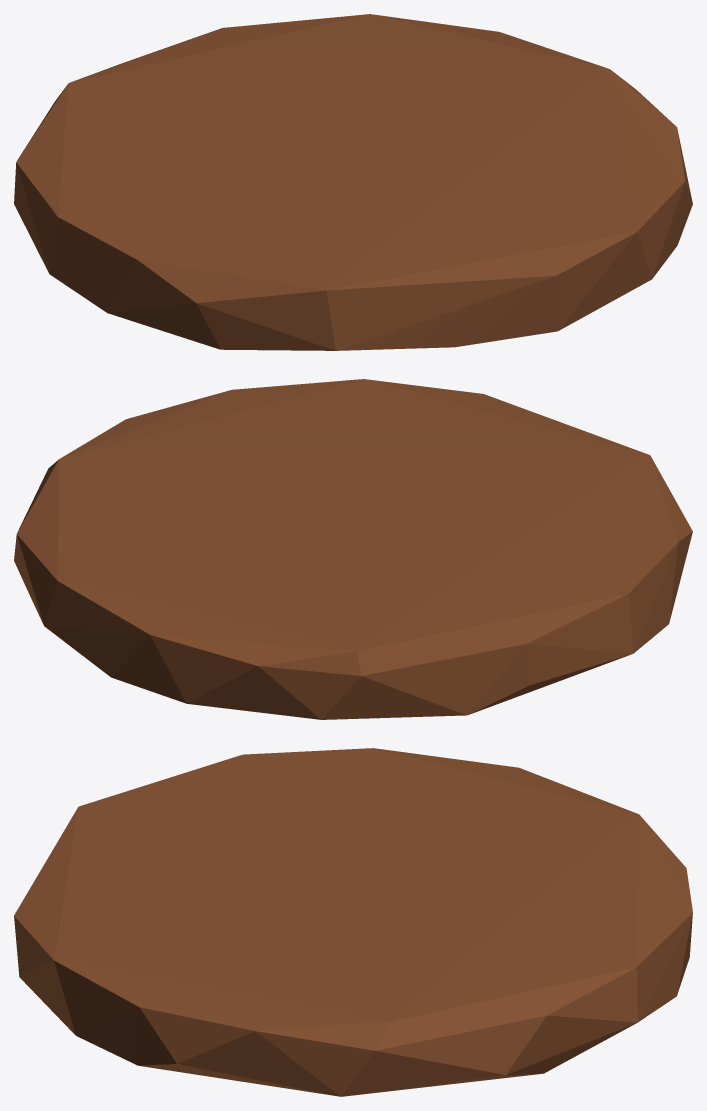
File: pattyWellDone.fbx
The picture shows the model from 3 angles, top to bottom: view 1: azimuth 30°, elevation 25°; view 2: azimuth 150°, elevation 25°; view 3: azimuth 270°, elevation 25°; orthographic projection.
Visible parts, largest first — view 1: Burger.002; view 2: Burger.002; view 3: Burger.002.
Part boxes in pixels (box(x1,y1,x2,y2)): Burger.002: box(14, 14, 692, 350); Burger.002: box(14, 379, 692, 719); Burger.002: box(14, 748, 692, 1096).
Bounding box in the file's own units: 445 × 53.9 × 439.
